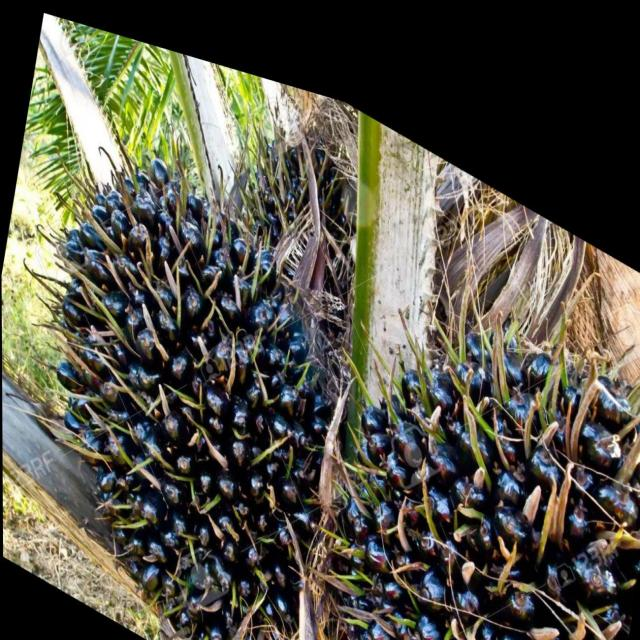Unripe: (1, 88, 363, 640), (295, 192, 640, 640)
